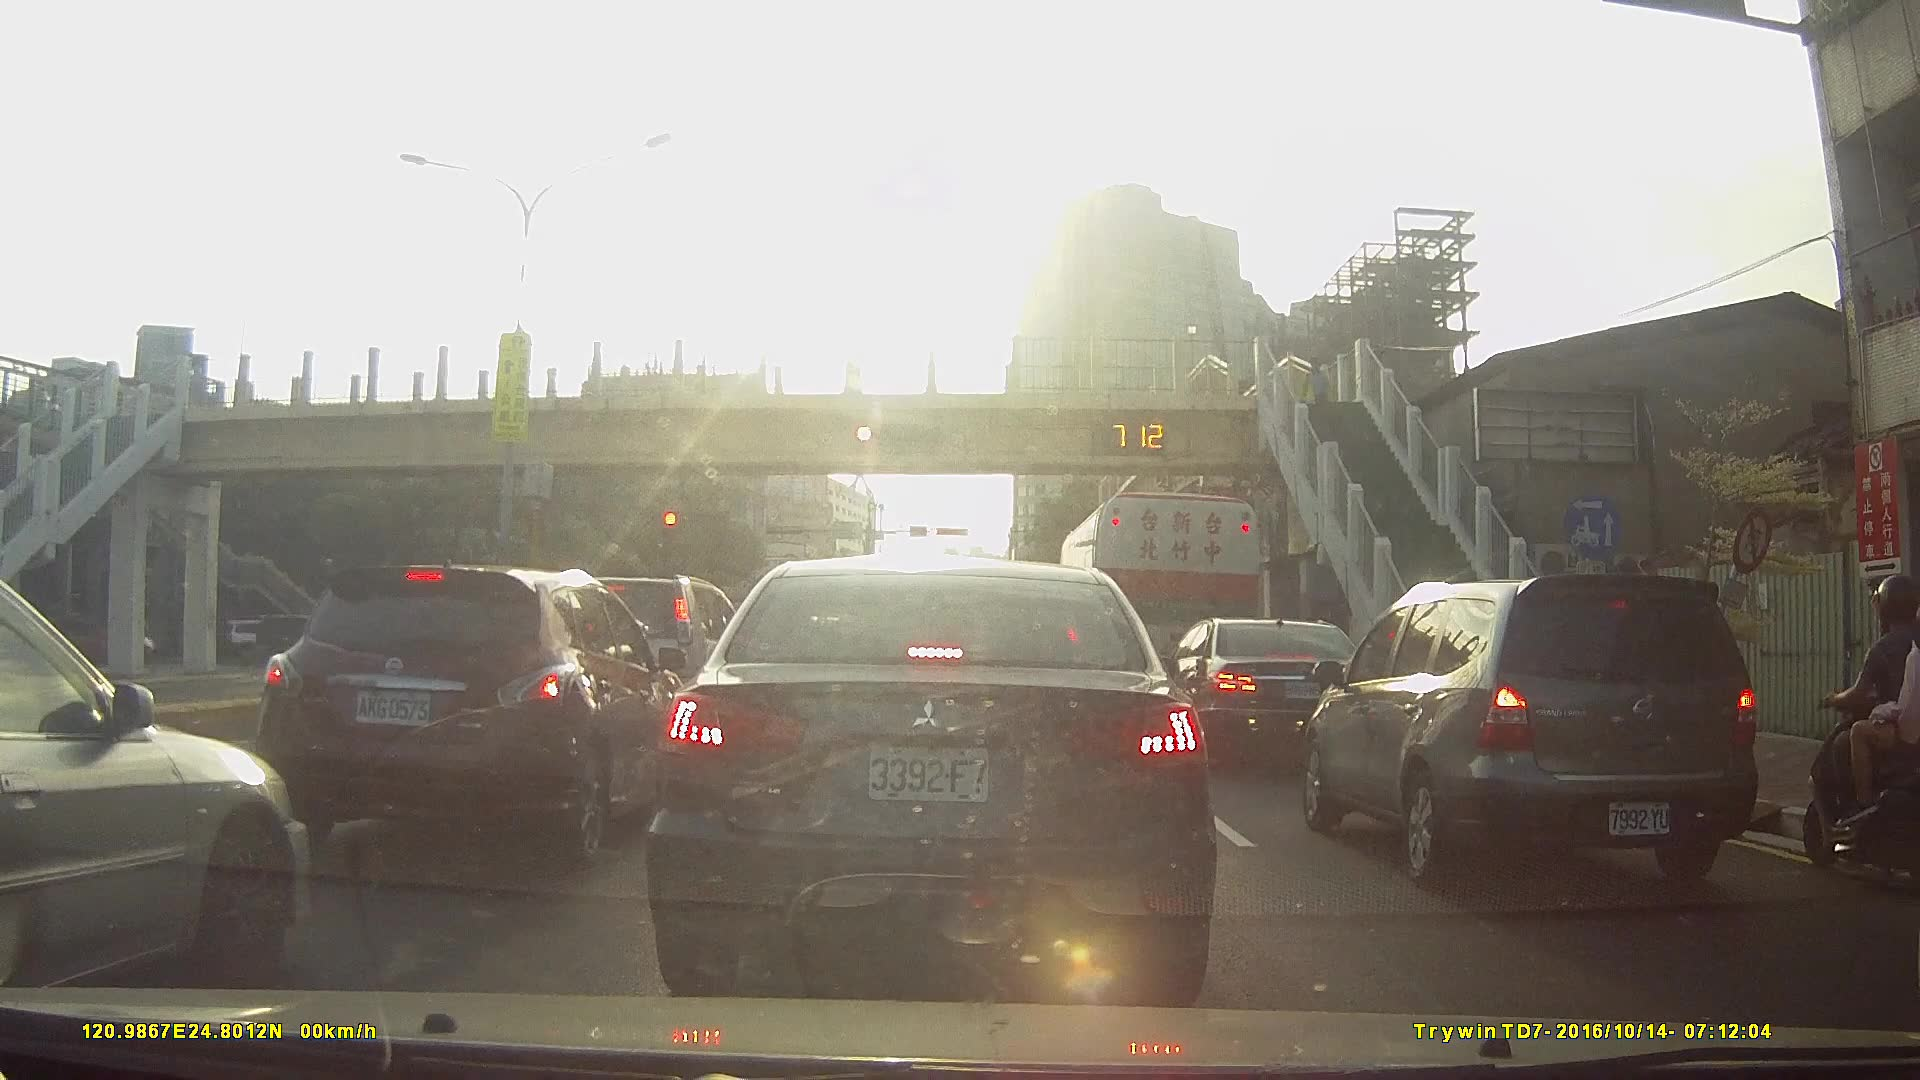pedestrian: (1304, 356, 1333, 428)
rider: (1804, 579, 1920, 892)
vehicle: (645, 553, 1221, 997), (1297, 572, 1758, 883), (250, 556, 684, 868), (0, 573, 312, 993), (1155, 615, 1379, 769), (75, 614, 187, 667)
